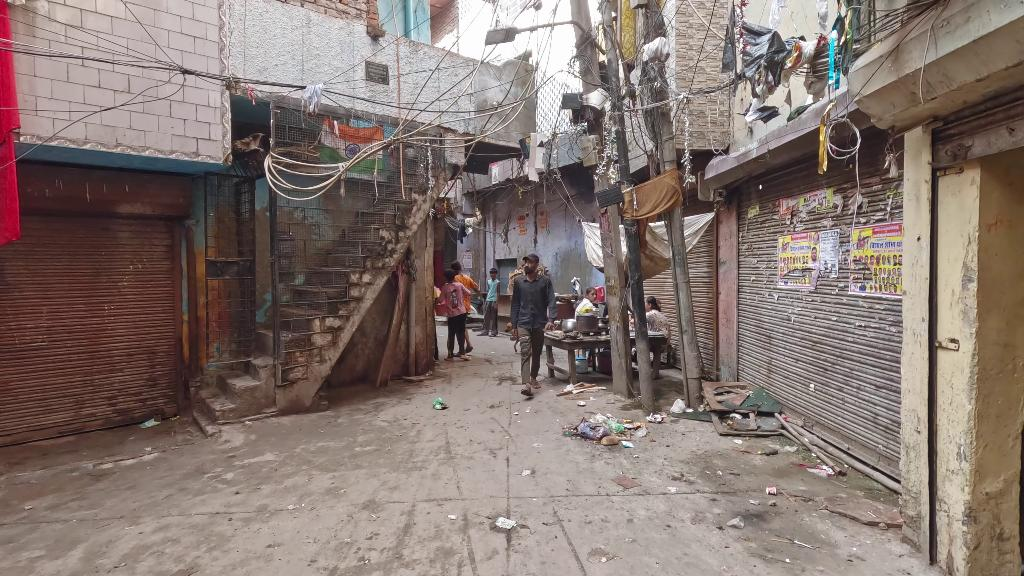garbage: (559, 407, 652, 448), (489, 505, 525, 537), (668, 396, 691, 416), (432, 395, 449, 419), (725, 516, 748, 528), (761, 485, 781, 497)
